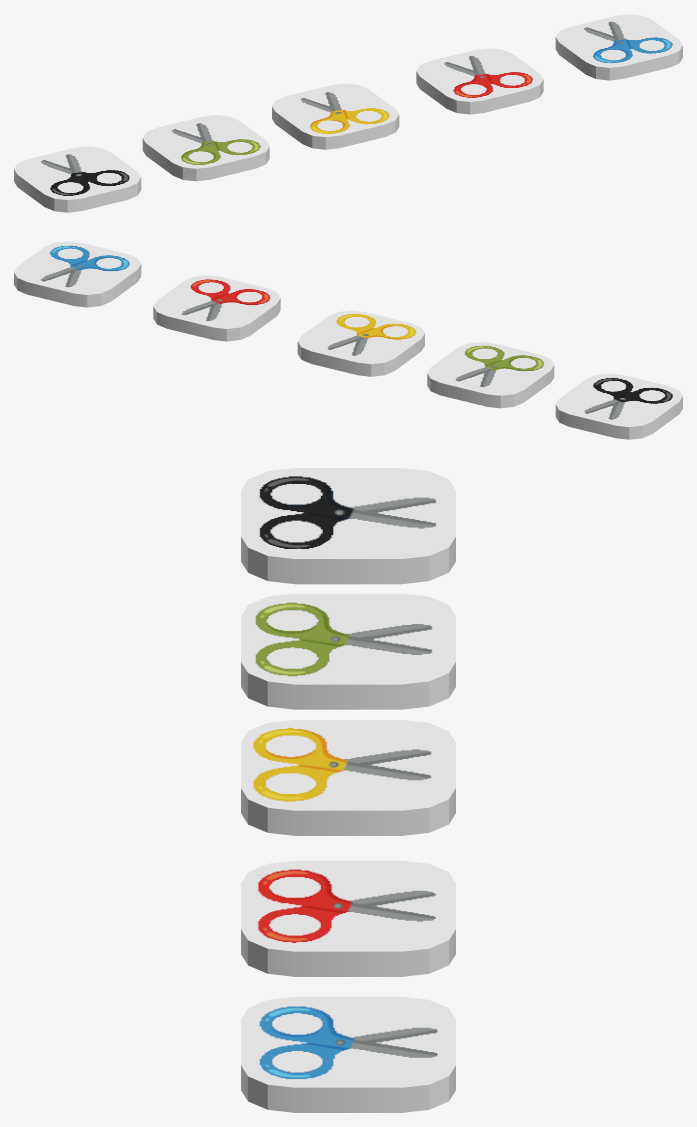
The model's file is btnForFils.fbx.
The picture shows the model from 3 angles, top to bottom: view 1: azimuth 30°, elevation 25°; view 2: azimuth 150°, elevation 25°; view 3: azimuth 270°, elevation 25°; orthographic projection. The views are drawn at different scales.
Visible parts, largest first — view 1: btn_noir, btn_bleu, btn_jaune, btn_rouge, btn_vert; view 2: btn_noir, btn_bleu, btn_jaune, btn_rouge, btn_vert; view 3: btn_vert, btn_noir, btn_bleu, btn_rouge, btn_jaune.
Boxes of the visible parts, x1,y1,x2,y2 form: btn_noir: [14, 146, 141, 212]; btn_bleu: [555, 14, 682, 80]; btn_jaune: [272, 83, 399, 149]; btn_rouge: [416, 48, 543, 114]; btn_vert: [142, 115, 269, 181]; btn_noir: [555, 373, 682, 439]; btn_bleu: [14, 241, 141, 307]; btn_jaune: [297, 310, 424, 376]; btn_rouge: [153, 275, 280, 341]; btn_vert: [427, 342, 554, 408]; btn_vert: [241, 593, 455, 709]; btn_noir: [241, 468, 455, 584]; btn_bleu: [241, 996, 455, 1112]; btn_rouge: [241, 860, 455, 976]; btn_jaune: [241, 720, 455, 835].
Size of the model in its own units: 1363 by 25.78 by 200.
5 materials, 5 textured.
